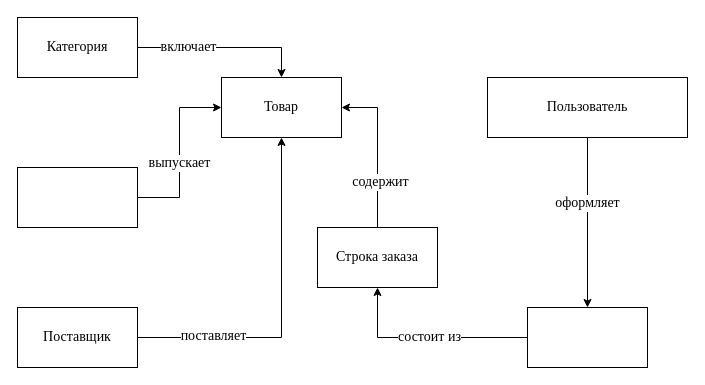
Some shapes in this 705 by 385 pixel diagram are drawn without their labels. The shapes that lost their labels are listed below. From the top down, each one's centre as x and y in pixels, then its label:
the point at 77,197: Производитель
the point at 587,337: Заказ
